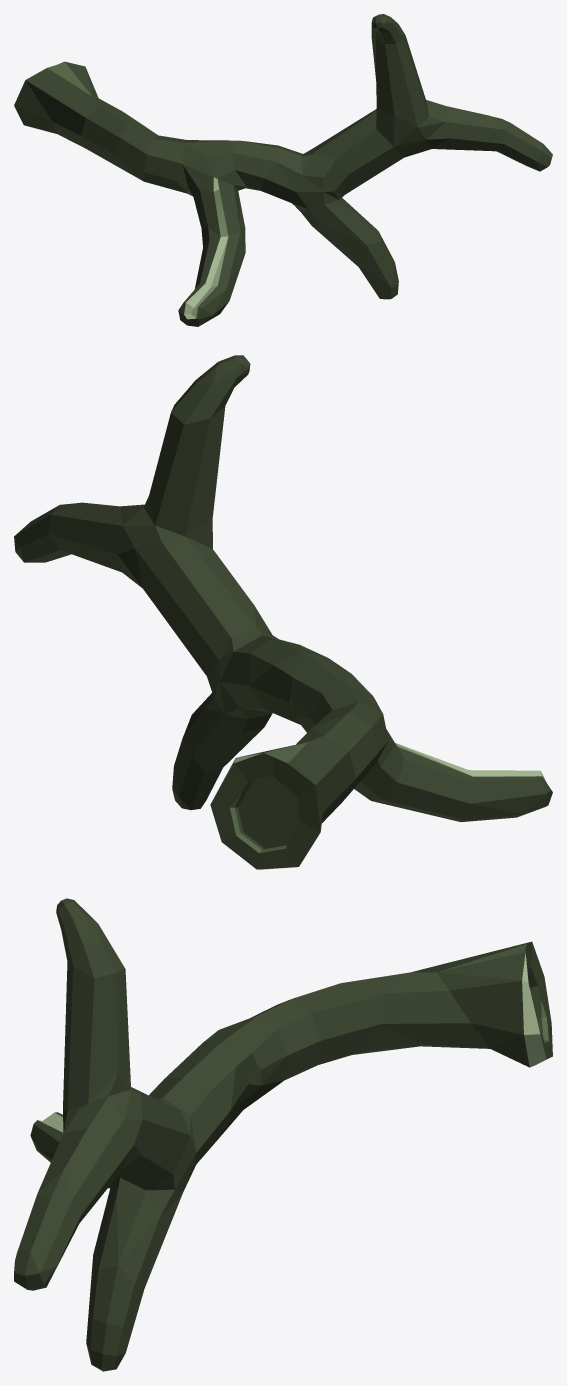
The model's file is EA_branch3.glb.
The picture shows the model from 3 angles, top to bottom: view 1: azimuth 30°, elevation 25°; view 2: azimuth 150°, elevation 25°; view 3: azimuth 270°, elevation 25°; orthographic projection. The views are drawn at different scales.
Visible parts, largest first — view 1: EA_branch3; view 2: EA_branch3; view 3: EA_branch3.
Boxes of the visible parts, box(x1,y1,x2,y2) form: EA_branch3: box(14, 14, 552, 326); EA_branch3: box(14, 355, 552, 869); EA_branch3: box(14, 898, 552, 1371).
Bounding box in the file's own units: 3.31 × 2.54 × 2.73.
Materials: 1 (1 with a texture image).
